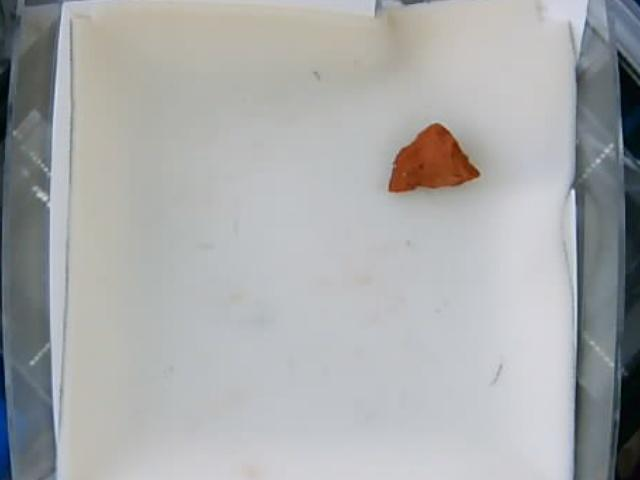Brisk: (386, 119, 480, 194)
